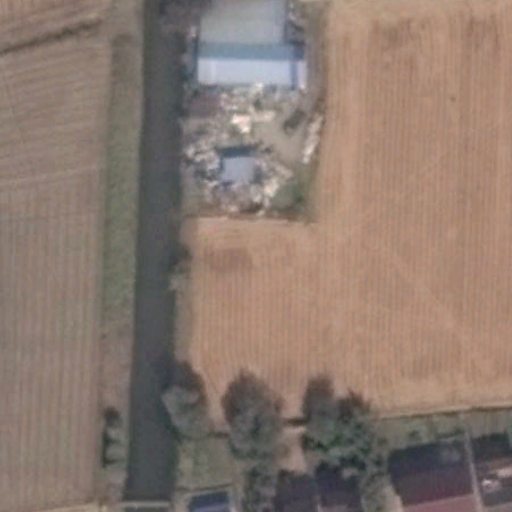msw: (185, 88, 323, 223)
